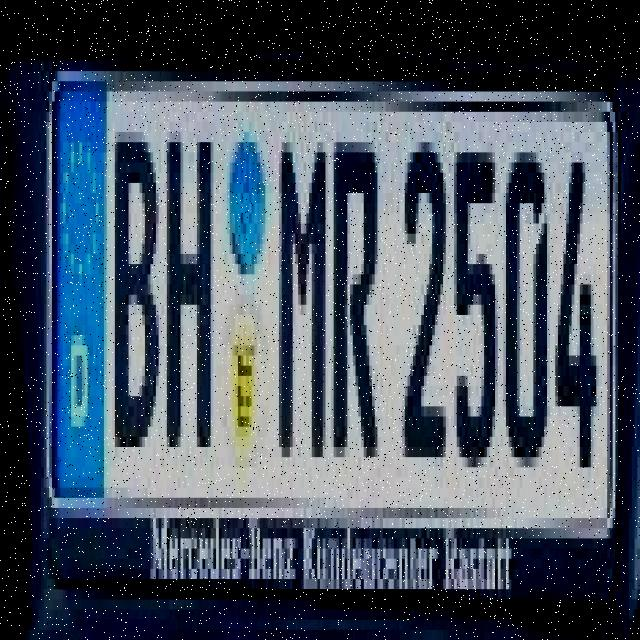licenseplate: (21, 18, 628, 630)
